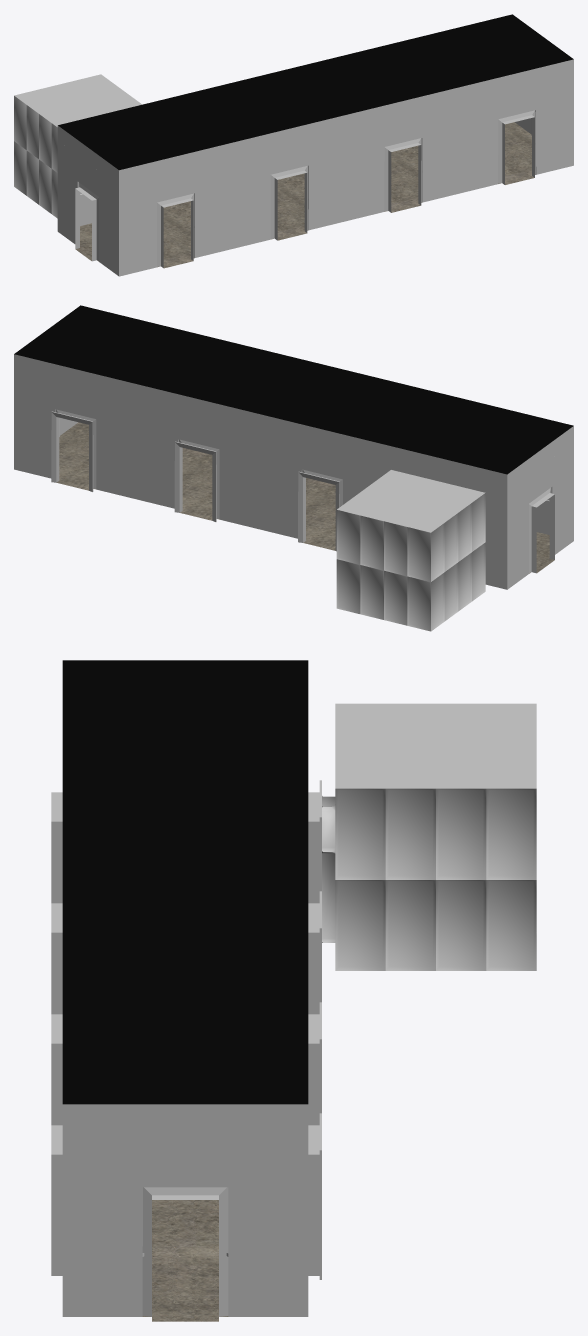
The model's file is PaddedRooms.FBX.
The picture shows the model from 3 angles, top to bottom: view 1: azimuth 30°, elevation 25°; view 2: azimuth 150°, elevation 25°; view 3: azimuth 270°, elevation 25°; orthographic projection. The views are drawn at different scales.
Visible parts, largest first — view 1: Hall_PaddedRooms, PaddedRoom; view 2: Hall_PaddedRooms, PaddedRoom; view 3: Hall_PaddedRooms, PaddedRoom.
Boxes of the visible parts, x1,y1,x2,y2 form: Hall_PaddedRooms: (57,14,573,276); PaddedRoom: (14,74,141,218); Hall_PaddedRooms: (14,305,573,589); PaddedRoom: (336,470,485,631); Hall_PaddedRooms: (51,660,321,1321); PaddedRoom: (322,703,536,970).
Size of what is drawn, in the model's own units: 1890 by 413 by 854.
